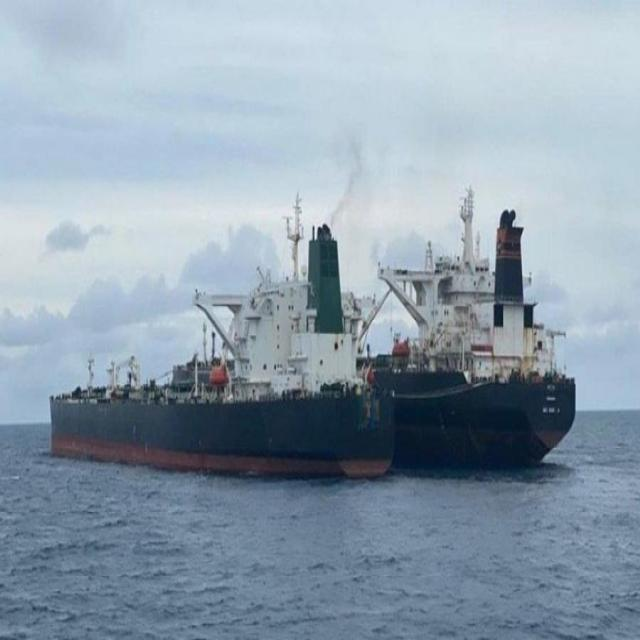cargoship: (56, 237, 380, 480), (359, 192, 575, 460)
